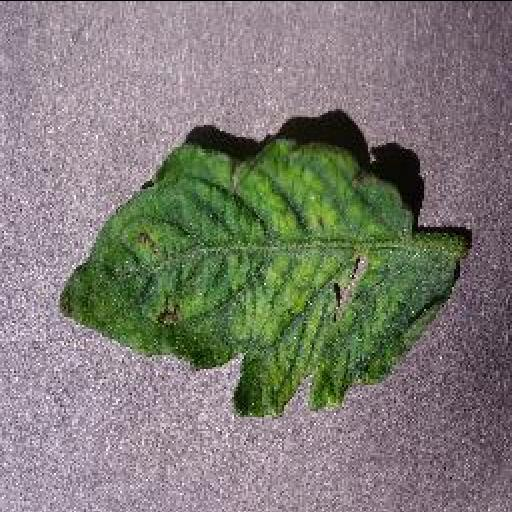disease_tomato: (54, 134, 460, 420)
